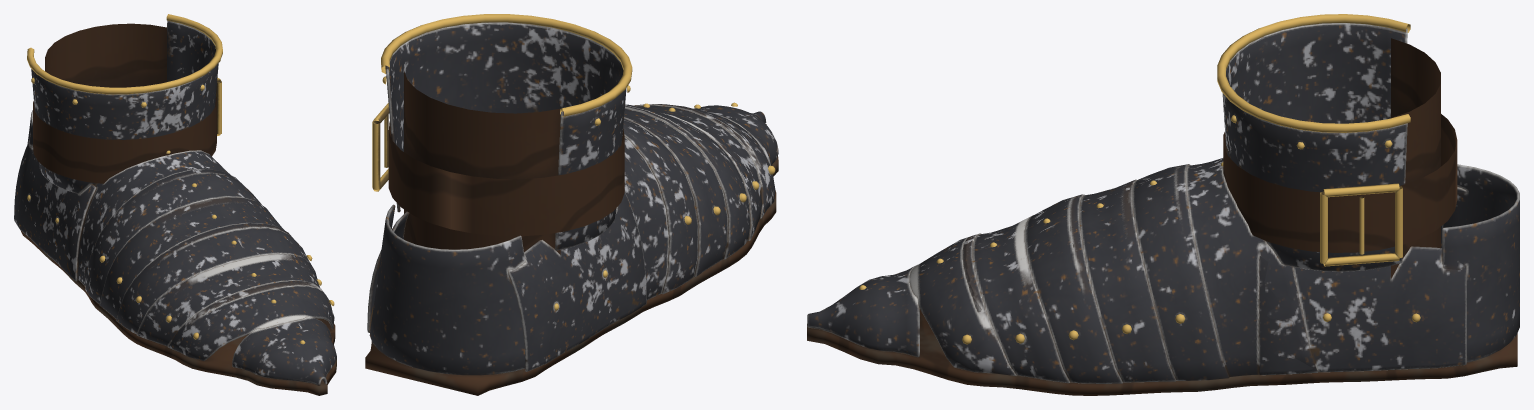
File: SM_EagleSabatons_L.fbx
3 views of the same model, side by side, from view 1: azimuth 30°, elevation 25°; view 2: azimuth 150°, elevation 25°; view 3: azimuth 270°, elevation 25° (orthographic). The views are drawn at different scales.
Parts seen in each view (by area): view 1: SM_EagleSabatons_L; view 2: SM_EagleSabatons_L; view 3: SM_EagleSabatons_L.
Boxes of the visible parts, x1,y1,x2,y2 form: SM_EagleSabatons_L: (14,14,336,395); SM_EagleSabatons_L: (365,14,778,395); SM_EagleSabatons_L: (807,14,1519,395).
Size of the model in its own units: 0.1108 by 0.117 by 0.2808.
